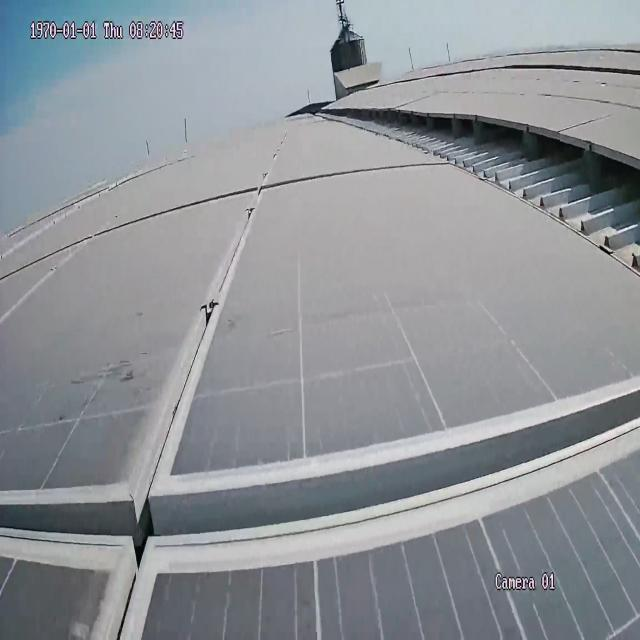interior panel: (0, 120, 640, 640)
outher panel: (309, 103, 639, 272)
